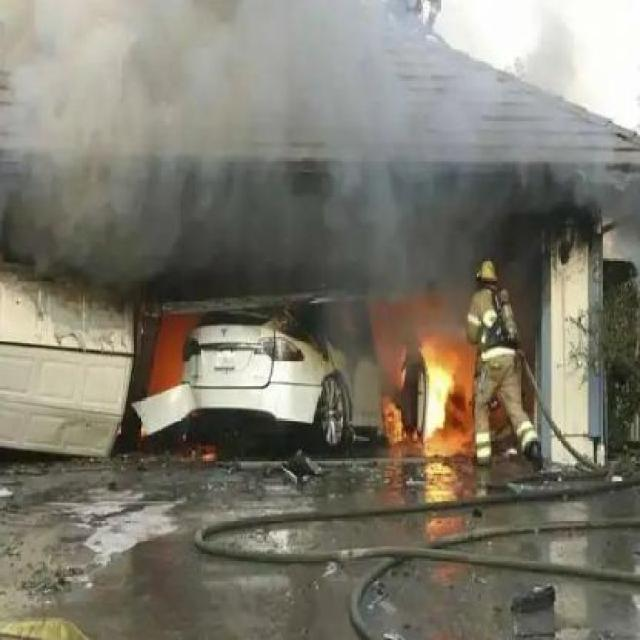Fire: (422, 339, 453, 444), (384, 396, 404, 442)
Smoke: (8, 13, 484, 293)
